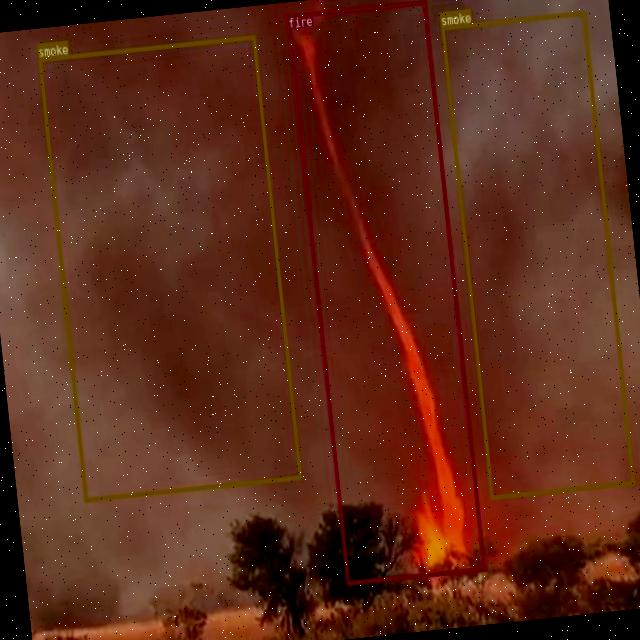fire: (286, 0, 484, 584)
smoke: (36, 34, 302, 501), (440, 10, 634, 499)
